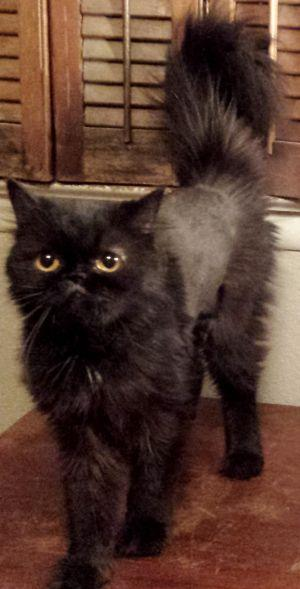persian: (1, 163, 182, 359)
